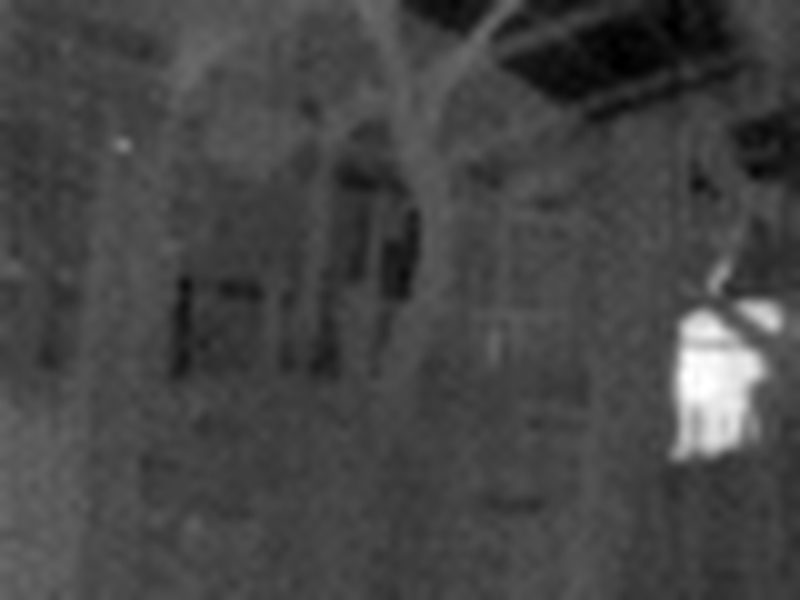elephant: (658, 260, 788, 500)
